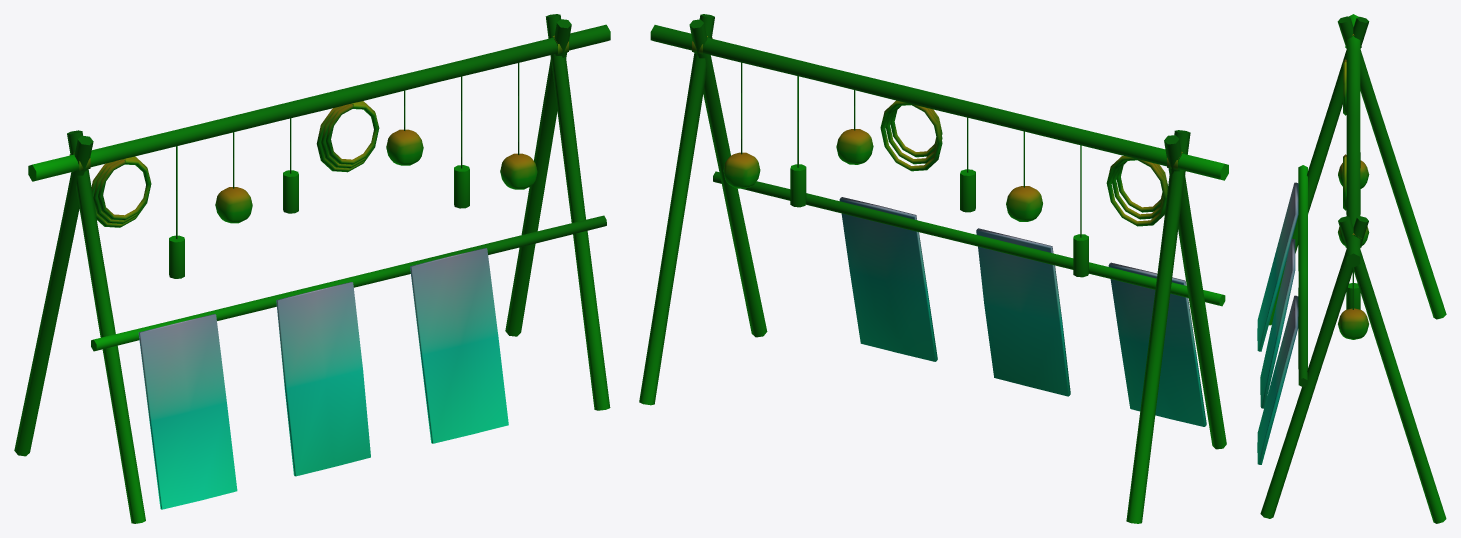
Rendered from salvage_rack.glb.
3 renders of one model, left to right at view 1: azimuth 30°, elevation 25°; view 2: azimuth 150°, elevation 25°; view 3: azimuth 270°, elevation 25°, orthographic. The views are drawn at different scales.
Visible parts, largest first — view 1: salvage_rack; view 2: salvage_rack; view 3: salvage_rack.
Part boxes in pixels (x1,y1,x2,y2): salvage_rack: [14, 14, 610, 523]; salvage_rack: [639, 14, 1228, 523]; salvage_rack: [1257, 14, 1446, 523].
Size of what is drawn, in the model's own units: 3.6 by 2.12 by 1.2.
